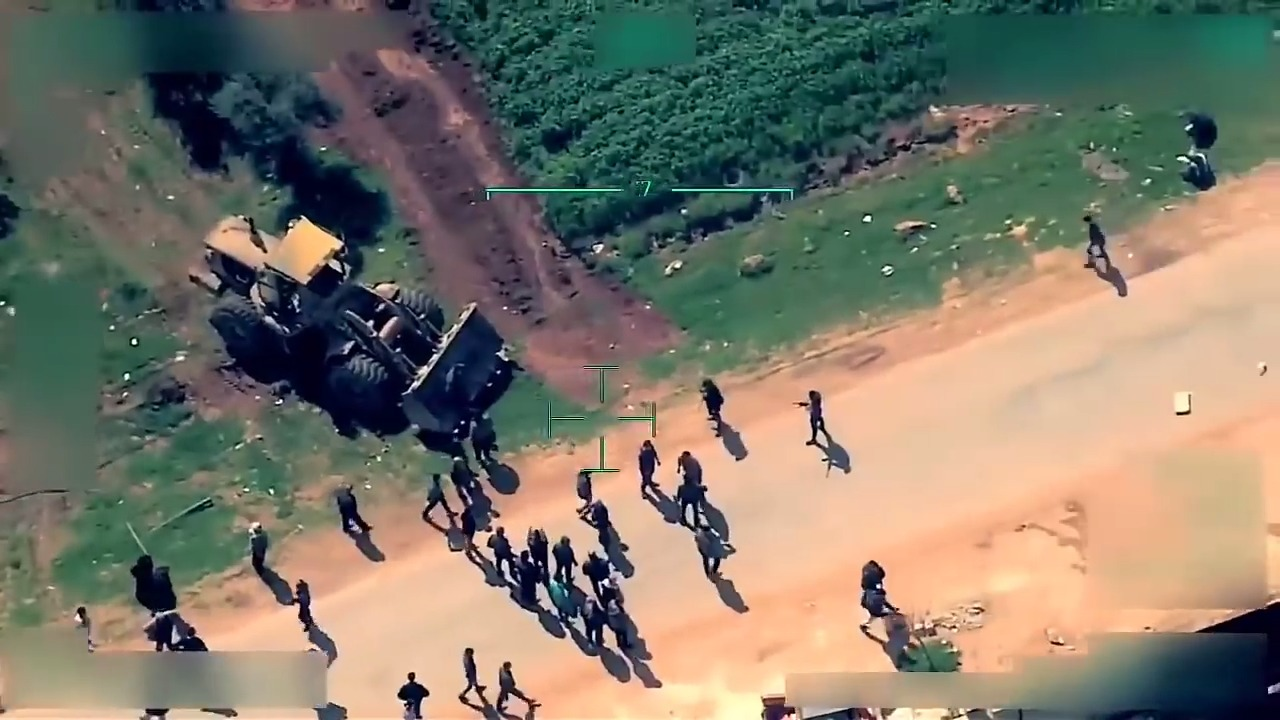arac: (182, 184, 515, 443)
insan: (797, 384, 843, 454), (691, 377, 737, 442), (333, 469, 372, 545), (627, 432, 667, 504), (689, 516, 729, 585), (1079, 207, 1118, 275), (415, 469, 455, 533), (604, 585, 643, 650), (451, 638, 486, 709), (559, 455, 598, 516), (391, 667, 437, 715), (242, 514, 274, 578), (290, 572, 321, 636), (548, 528, 574, 589)
